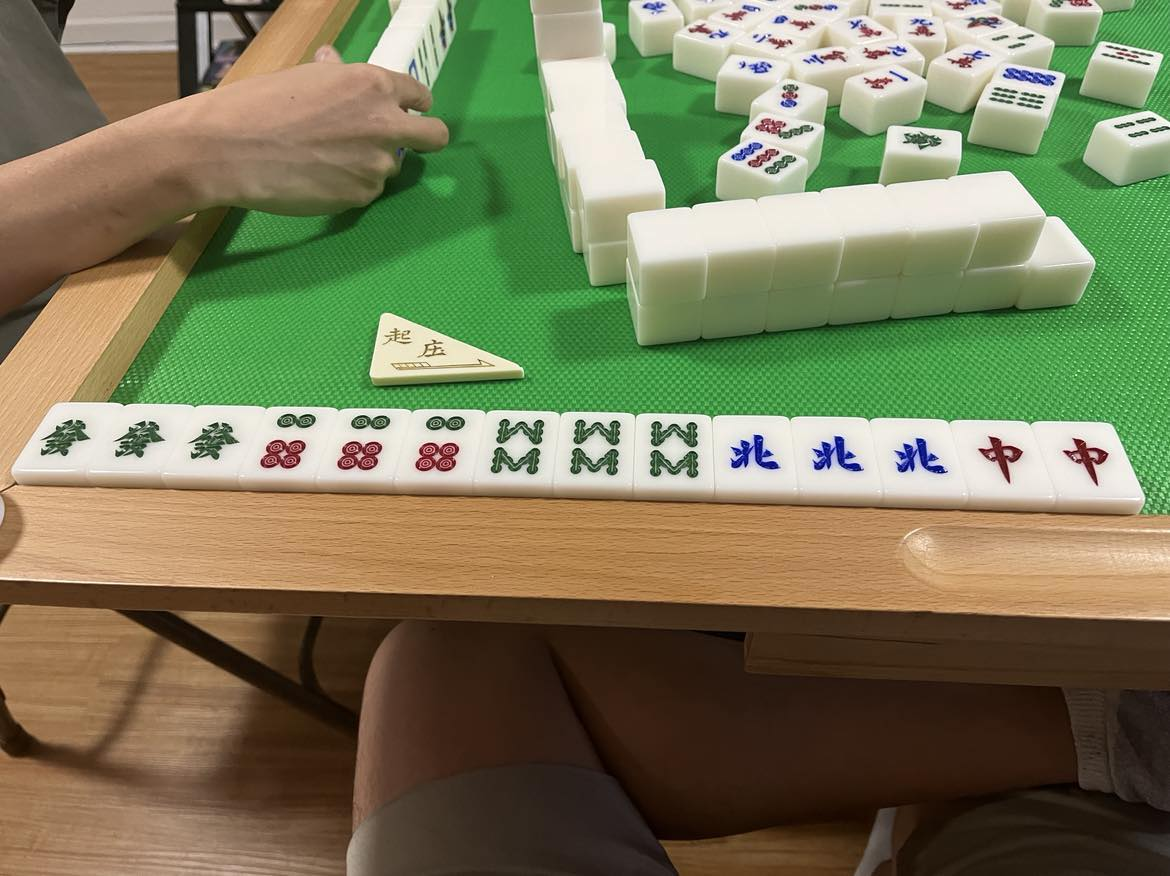bamboo-eight: (483, 412, 548, 480), (642, 417, 705, 487), (563, 416, 627, 482)
circle-six: (256, 410, 324, 477), (336, 412, 400, 476), (411, 413, 470, 477)
honor-green_dragon: (30, 402, 95, 468), (106, 409, 167, 467), (183, 415, 242, 469)
honor-north_wind: (799, 424, 865, 490), (884, 424, 951, 488), (718, 423, 783, 486)
honor-red_dragon: (968, 425, 1033, 493), (1059, 426, 1112, 492)
